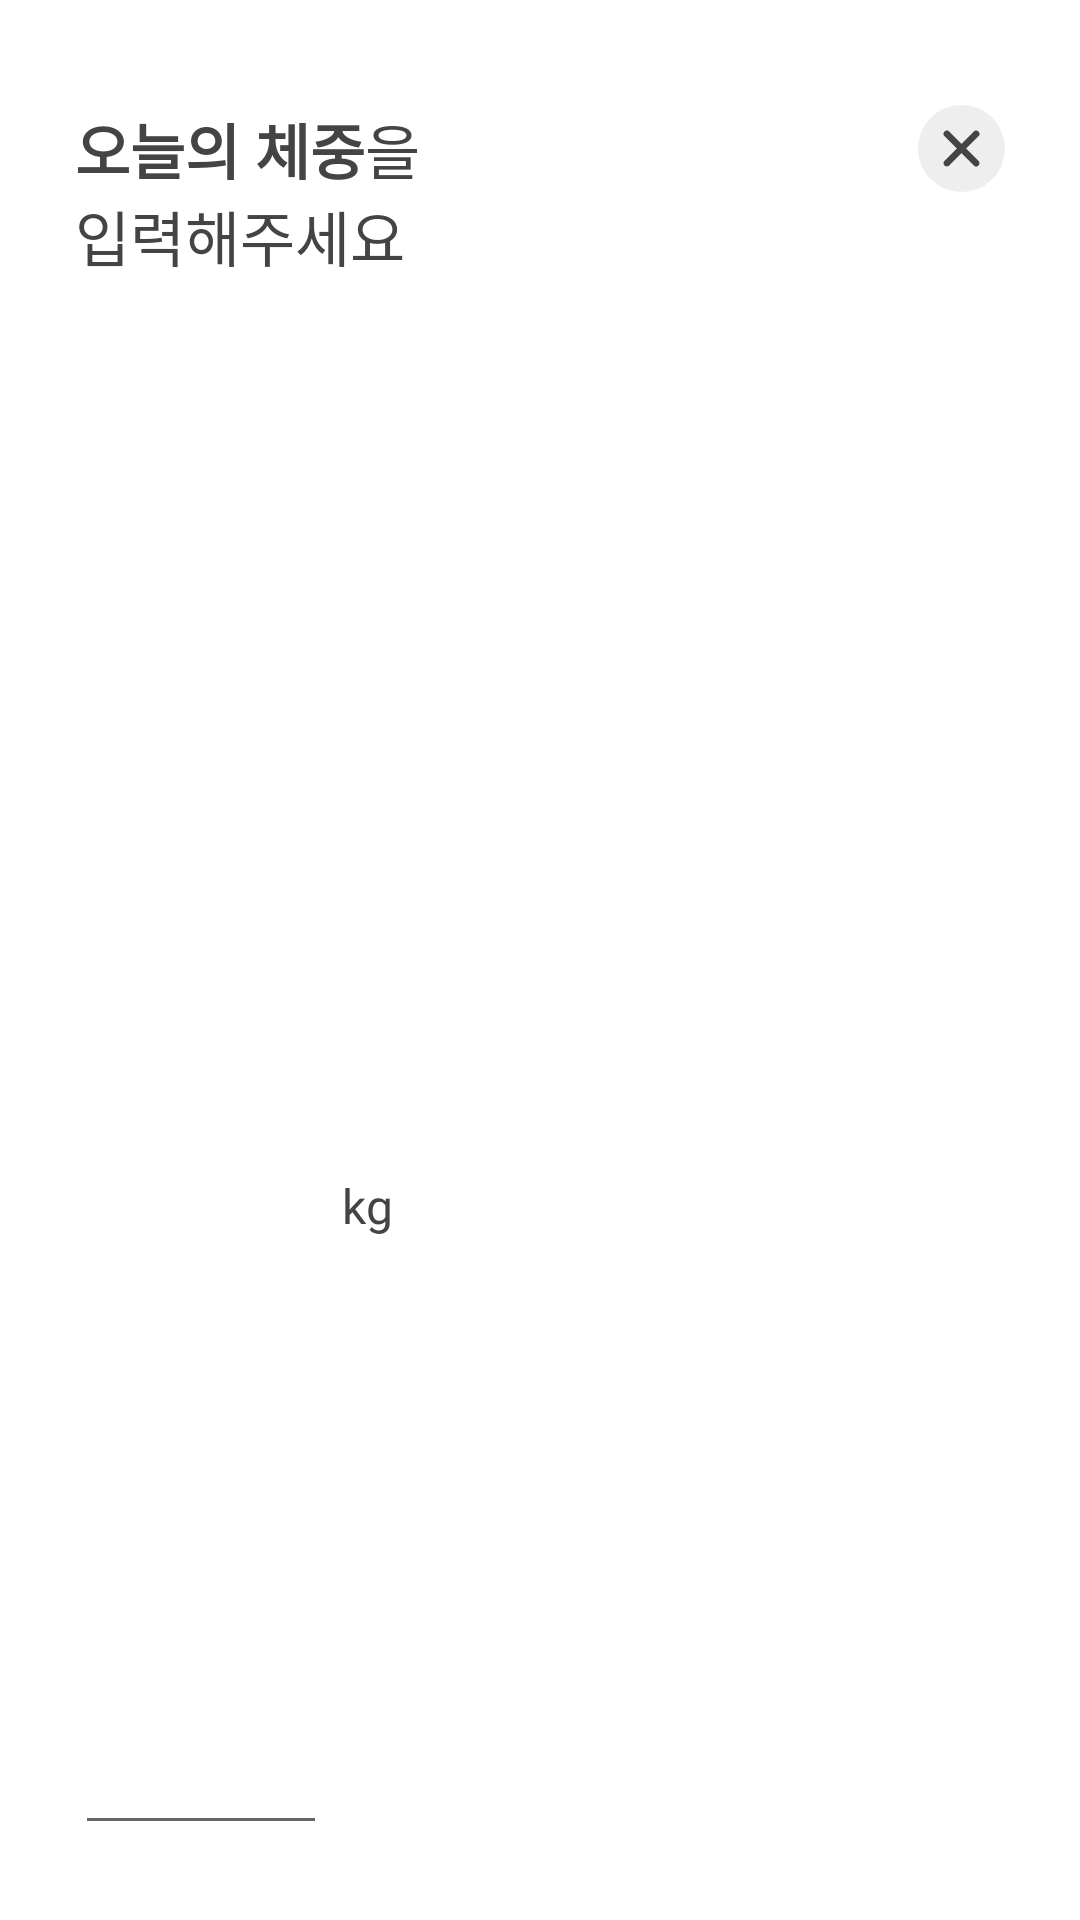

Locate icon controls on the screen. Image size 1080px×1920px, boxes as (x1, y1, x2, y2).
cancle: (918, 105, 1005, 192)
